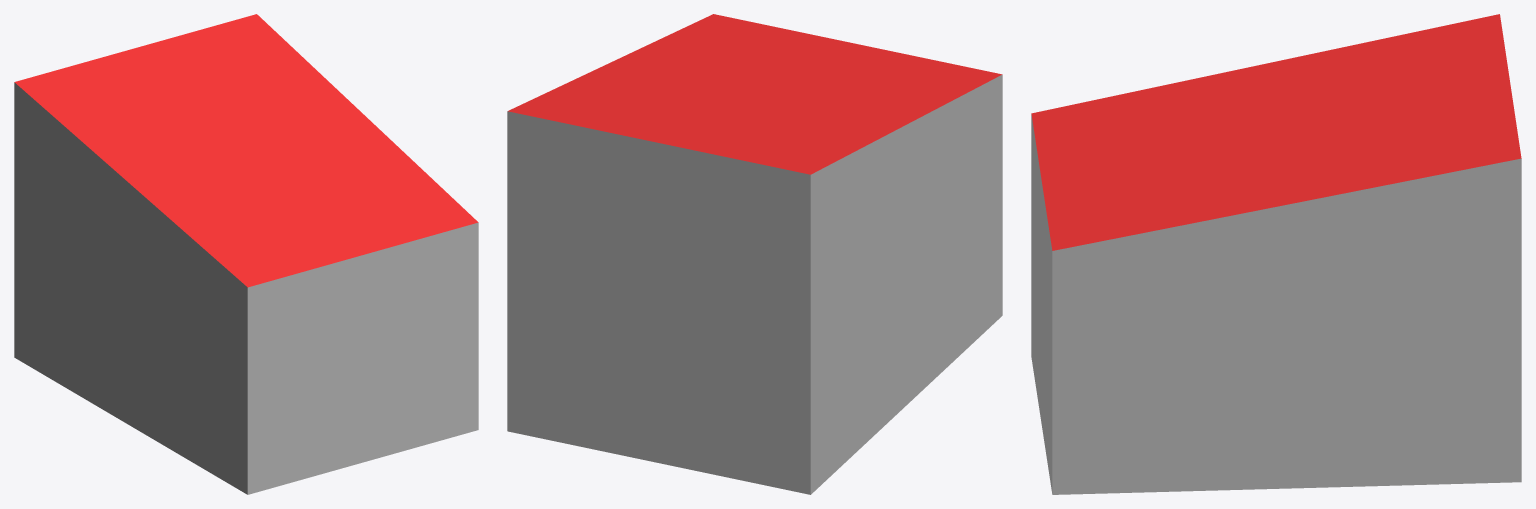
Rendered from DEBE3D04YY50002cbt.dae.
3 views of the same model, side by side, from view 1: azimuth 30°, elevation 25°; view 2: azimuth 150°, elevation 25°; view 3: azimuth 270°, elevation 25° (orthographic). The views are drawn at different scales.
Bounding box in the file's own units: 4.48 × 5.9 × 4.3.
